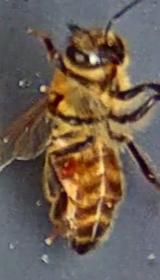varroa_mite: (52, 151, 78, 181)
